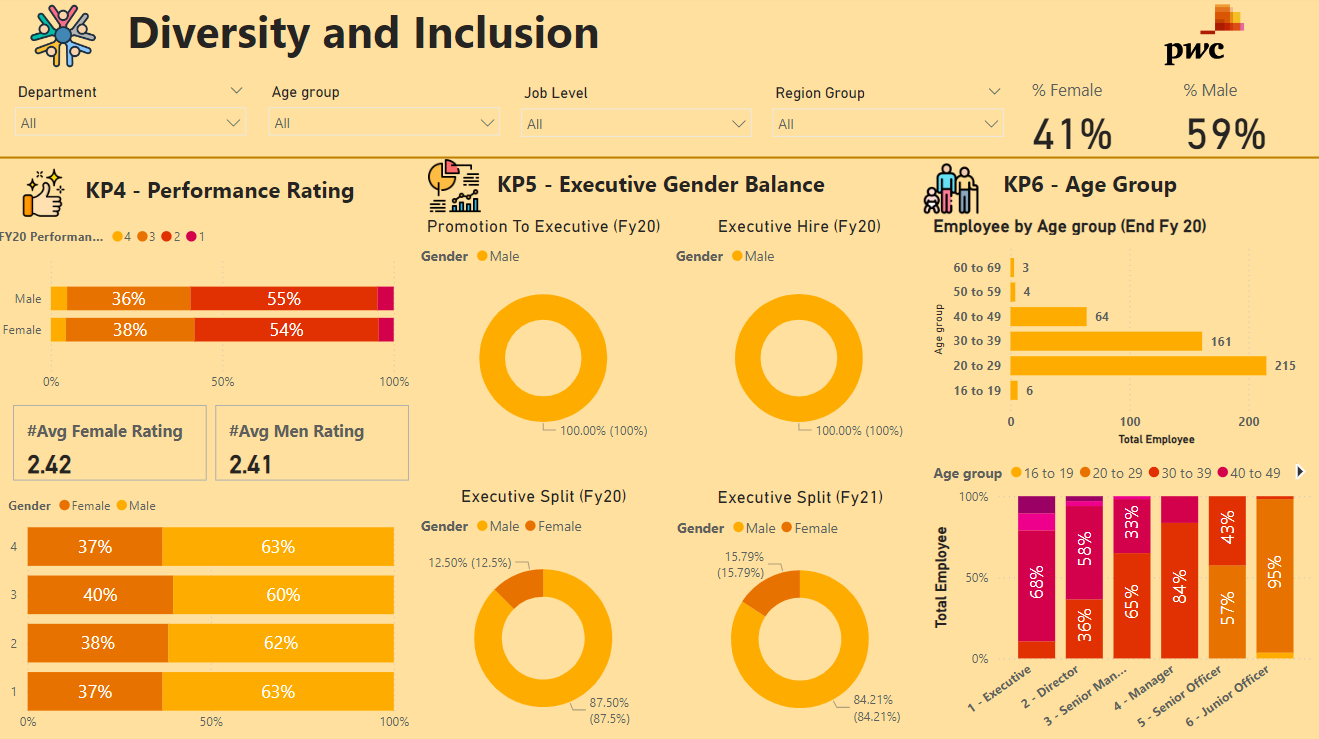

What the dashboard file says about the page in this screenshot:
{"tool":"powerbi","page":{"name":"Page 2","canvas":[1280,720],"ordinal":1},"visuals":[{"type":"textbox","box":[123.7,0,516.3,79.6],"z":0},{"type":"slicer","fields":{"Values":["Pharma Group AG.Last Department in FY20"]},"box":[11,79.5,243.3,75.8],"z":1000},{"type":"slicer","fields":{"Values":["Pharma Group AG.Age group"]},"box":[255.5,79.6,243.9,77],"z":2000},{"type":"slicer","fields":{"Values":["Pharma Group AG.Job Level after FY20 promotions"]},"box":[499.4,80.9,242.6,75.7],"z":3000},{"type":"slicer","fields":{"Values":["Pharma Group AG.Broad region group: nationality 1"]},"box":[742.1,80.9,243.9,75.7],"z":4000},{"type":"hundredPercentStackedBarChart","fields":{"Y":["CountNonNull(Pharma Group AG.Employee ID)"],"Series":["Pharma Group AG.Gender"],"Category":["Pharma.FY20 Performance Rating"]},"box":[9.8,473.2,397.4,247],"z":5000},{"type":"cardVisual","fields":{"Data":["Pharma.% Female","Pharma.% Male"]},"box":[985.6,62.4,294.7,92.9],"z":6000},{"type":"shape","box":[0,146.4,1280,21.8],"z":7000},{"type":"textbox","box":[78.3,168.2,281.2,46.2],"z":8000},{"type":"textbox","box":[481.8,161.4,344.8,46.5],"z":9000},{"type":"textbox","box":[969.7,161.4,244.6,46.5],"z":10000},{"type":"hundredPercentStackedBarChart","fields":{"Y":["CountNonNull(Pharma Group AG.Employee ID)"],"Category":["Pharma.Gender"],"Series":["Pharma.FY20 Performance Rating"]},"box":[0,213.1,407,178.5],"z":11000},{"type":"donutChart","title":"Executive Split (Fy20)","fields":{"Category":["Pharma.Gender"],"Y":["CountNonNull(Pharma.Employee ID)"]},"box":[407.2,473.2,247,247],"z":12000},{"type":"donutChart","title":"Executive Split (Fy21)","fields":{"Category":["Pharma.Gender"],"Y":["CountNonNull(Pharma.Employee ID)"]},"box":[654.8,473.7,247.8,246.5],"z":13000},{"type":"donutChart","title":"Executive Hire (Fy20)","fields":{"Category":["Pharma.Gender"],"Y":["CountNonNull(Pharma.Employee ID)"]},"box":[654.2,212.5,248.2,227.4],"z":14000},{"type":"donutChart","title":"Promotion To Executive (Fy20)","fields":{"Category":["Pharma.Gender"],"Y":["CountNonNull(Pharma.Employee ID)"]},"box":[407.2,212.5,247,227.4],"z":15000},{"type":"barChart","title":"Employee by Age group (End Fy 20)","fields":{"Category":["Pharma.Age group"],"Y":["CountNonNull(Pharma.Employee ID)"]},"box":[902.5,212.5,377.9,227.4],"z":16000},{"type":"hundredPercentStackedColumnChart","title":"Employee by Age group (Fy 20)","fields":{"Y":["CountNonNull(Pharma.Employee ID)"],"Series":["Pharma.Age group"],"Category":["Pharma.Job Level after FY21 promotions"]},"box":[902.5,440.4,377.5,279.9],"z":17000},{"type":"cardVisual","fields":{"Data":["Pharma.#Avg Female Rating","Pharma.Avg Men Rating"]},"box":[14.1,390.3,392.9,83.5],"z":18000},{"type":"image","box":[1100.3,0,139.9,79.6],"z":19000},{"type":"image","box":[11.6,0,111.7,79.6],"z":20000},{"type":"image","box":[19.3,163,59.1,56.5],"z":21000},{"type":"image","box":[880.7,155.3,87.3,62.9],"z":22000},{"type":"image","box":[408.3,151.5,74.5,64.2],"z":23000}]}

Visuals, with their boxes in screenshot pixels (x1, y1, x2, y2), scaled from the page's 1280x720 canvas onto the 1319x739 screenshot:
textbox: bbox(127, 0, 660, 82)
slicer - Pharma Group AG.Last Department in FY20: bbox(11, 82, 262, 159)
slicer - Pharma Group AG.Age group: bbox(263, 82, 515, 161)
slicer - Pharma Group AG.Job Level after FY20 promotions: bbox(515, 83, 765, 161)
slicer - Pharma Group AG.Broad region group: nationality 1: bbox(765, 83, 1016, 161)
hundredPercentStackedBarChart - CountNonNull(Pharma Group AG.Employee ID) x Pharma Group AG.Gender: bbox(10, 486, 420, 738)
cardVisual - Pharma.% Female x Pharma.% Male: bbox(1016, 64, 1318, 159)
shape: bbox(0, 150, 1318, 173)
textbox: bbox(81, 173, 370, 220)
textbox: bbox(496, 166, 852, 213)
textbox: bbox(999, 166, 1251, 213)
hundredPercentStackedBarChart - CountNonNull(Pharma Group AG.Employee ID) x Pharma.Gender: bbox(0, 219, 419, 402)
"Executive Split (Fy20)" donutChart: bbox(420, 486, 674, 738)
"Executive Split (Fy21)" donutChart: bbox(675, 486, 930, 738)
"Executive Hire (Fy20)" donutChart: bbox(674, 218, 930, 452)
"Promotion To Executive (Fy20)" donutChart: bbox(420, 218, 674, 452)
"Employee by Age group (End Fy 20)" barChart: bbox(930, 218, 1318, 452)
"Employee by Age group (Fy 20)" hundredPercentStackedColumnChart: bbox(930, 452, 1318, 738)
cardVisual - Pharma.#Avg Female Rating x Pharma.Avg Men Rating: bbox(15, 401, 419, 486)
image: bbox(1134, 0, 1278, 82)
image: bbox(12, 0, 127, 82)
image: bbox(20, 167, 81, 225)
image: bbox(908, 159, 997, 224)
image: bbox(421, 155, 498, 221)
